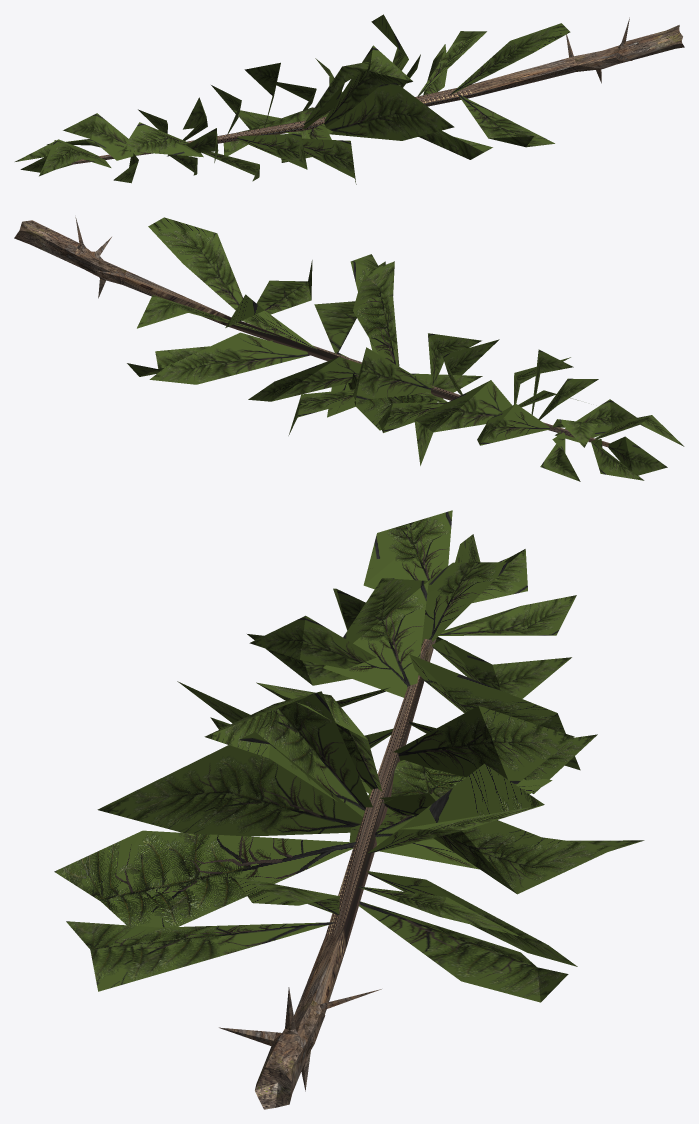
Rendered from spruce_5_lod.dae.
3 views of the same model, one above another, from view 1: azimuth 30°, elevation 25°; view 2: azimuth 150°, elevation 25°; view 3: azimuth 270°, elevation 25° (orthographic). The views are drawn at different scales.
Visible parts, largest first — view 1: Mesh_Object; view 2: Mesh_Object; view 3: Mesh_Object.
Boxes of the visible parts, x1=… form: Mesh_Object: x1=15, y1=14, x2=684, y2=184; Mesh_Object: x1=14, y1=217, x2=684, y2=481; Mesh_Object: x1=54, y1=510, x2=644, y2=1109.
Size of the model in its own units: 11.3 by 1.77 by 4.68.
